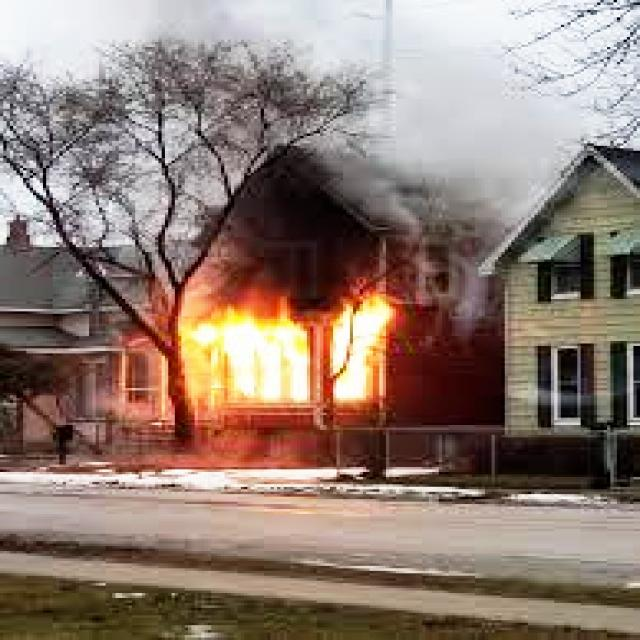api: (159, 236, 420, 424)
